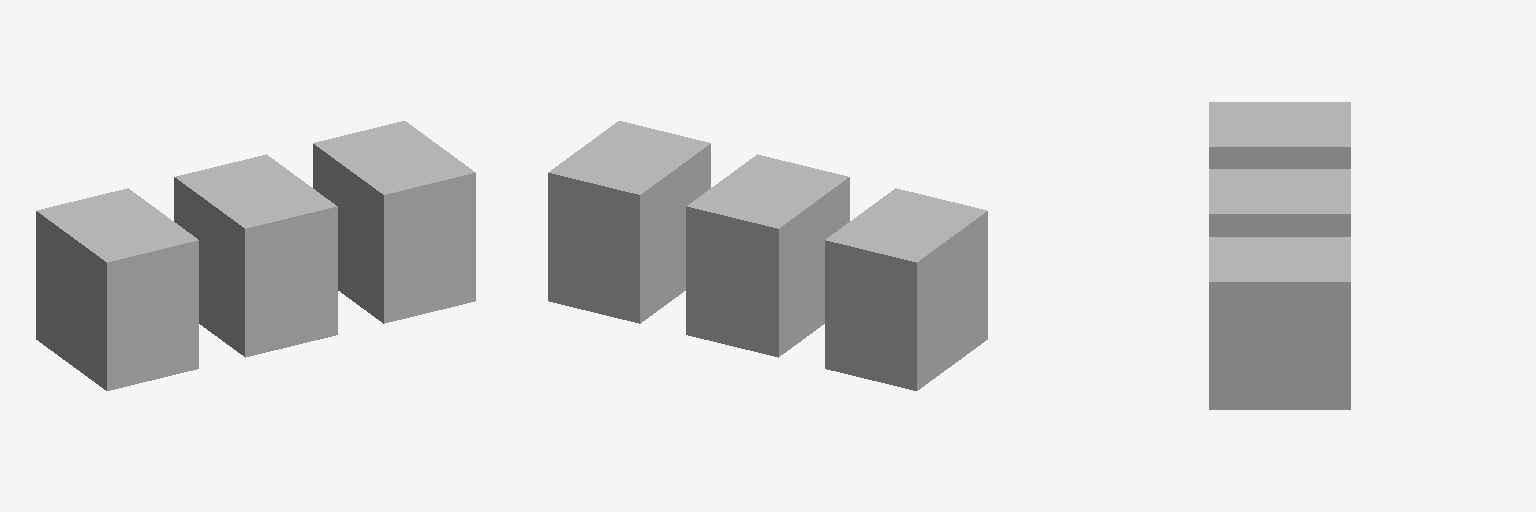
Rendered from Tecla8.obj.
3 renders of one model, left to right at view 1: azimuth 30°, elevation 25°; view 2: azimuth 150°, elevation 25°; view 3: azimuth 270°, elevation 25°, orthographic.
Visible parts, largest first — view 1: Tecla_1.008; view 2: Tecla_1.008; view 3: Tecla_1.008.
Part boxes in pixels (x1,y1,x2,y2): Tecla_1.008: (36,121,475,390); Tecla_1.008: (548,121,987,390); Tecla_1.008: (1209,102,1350,409).
Bounding box in the file's own units: 0.3892 × 0.1297 × 0.1297.